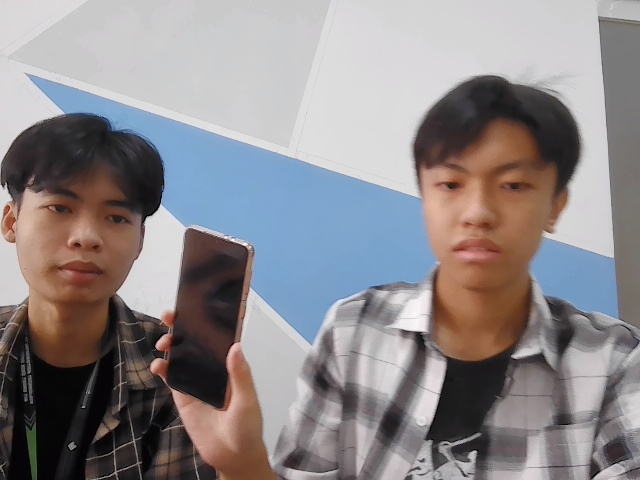human: (415, 77, 580, 296), (1, 107, 170, 320)
phone: (158, 224, 266, 415)
